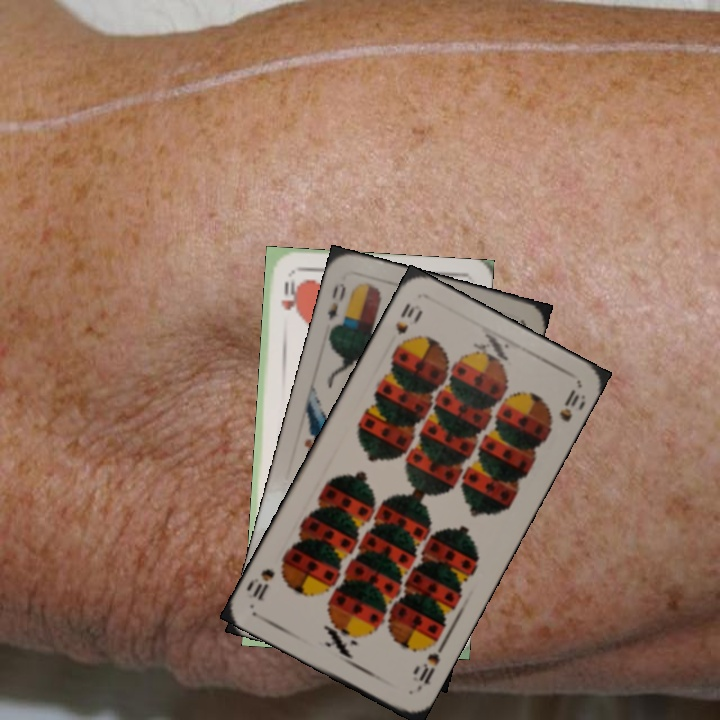EO: (323, 279, 349, 333)
HO: (277, 274, 298, 312)
S10: (390, 299, 424, 352), (409, 640, 447, 687)
